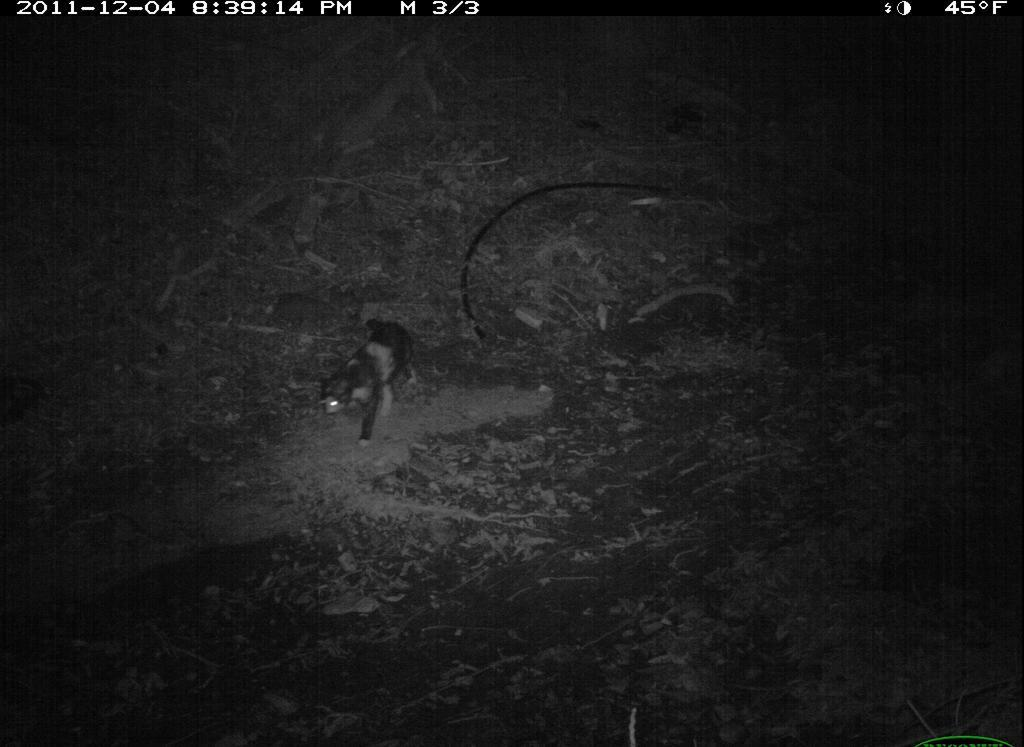cat: (294, 308, 460, 460)
